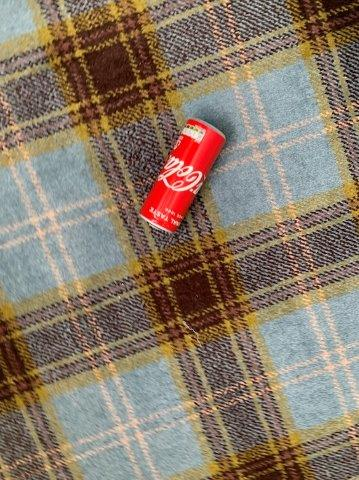kaleng: (140, 119, 225, 233)
